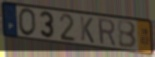2: (58, 12, 77, 43)
3: (38, 10, 56, 40)
B: (116, 20, 138, 50)
K: (79, 15, 96, 45)
O: (17, 7, 37, 38)
R: (96, 17, 118, 47)
